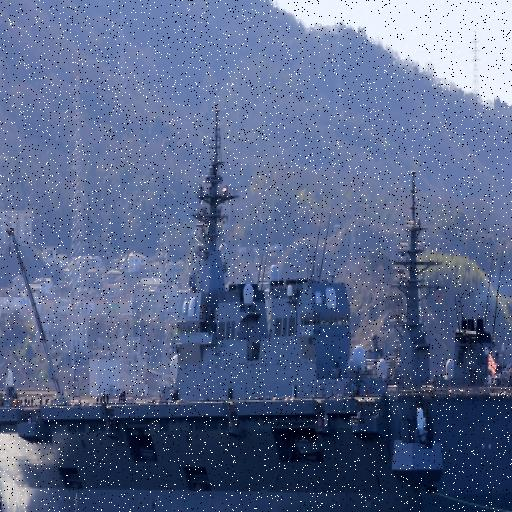Portanaves: (1, 108, 512, 512)
